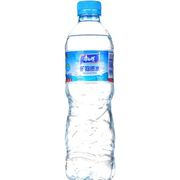amwater: (55, 1, 127, 177)
